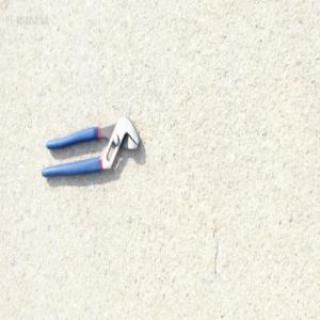Pliertrack_idkeyframe: (40, 114, 140, 180)
